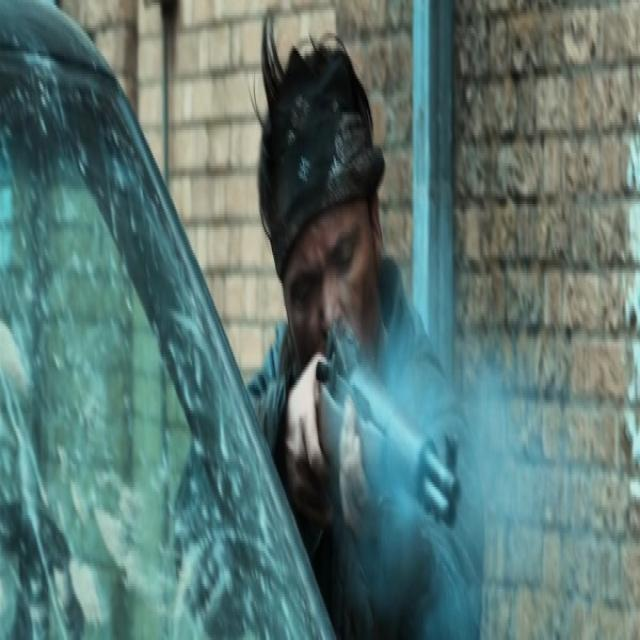rifle: (287, 327, 464, 538)
